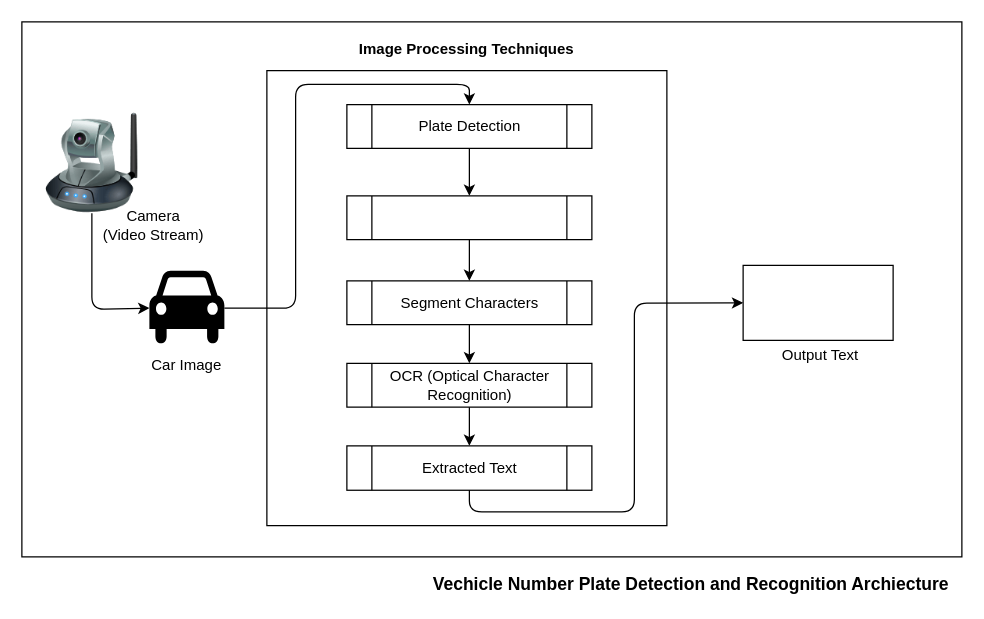
Image size: 984x619. Some labels were removed from this diagram. The shapes that lost their labels are listed below. From the top down, each one's centre as x and y in pixels, then its label:
At (x=469, y=217): "Plate Binarization".
At (x=817, y=302): "374HQR".
